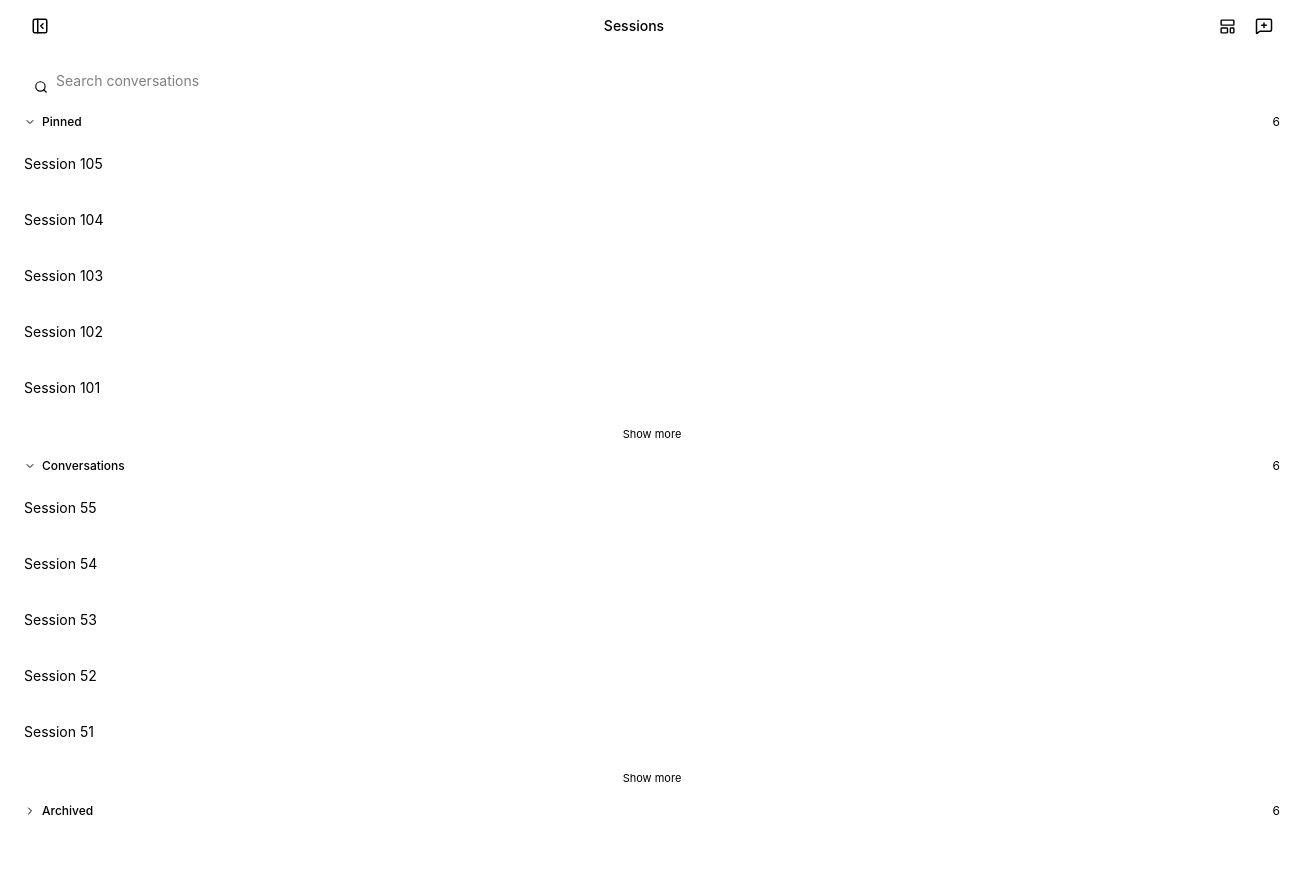
Test: SessionList batching › maintains an independent five-item window for each expanded group
Expected: the text "Session 6" is not shown
Expected: the number of buttons "Show more" is 2, [24, 420, 1280, 448]; [24, 764, 1280, 792]
Click the button "Archived 6" at (68,810), box [12, 796, 1292, 824]
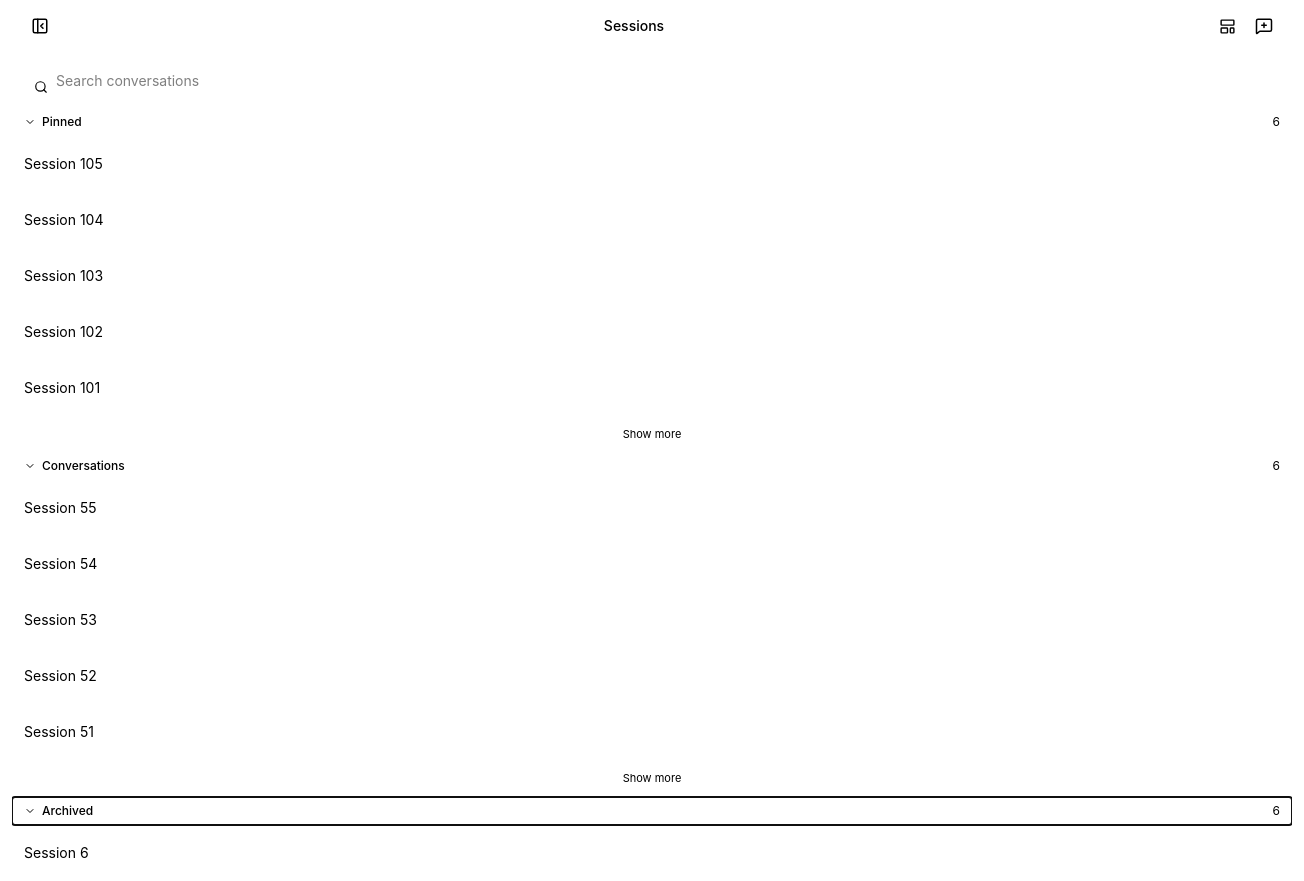
Now the text "Session 6" is shown, box [24, 842, 89, 862]
Now the number of buttons "Show more" is 3
